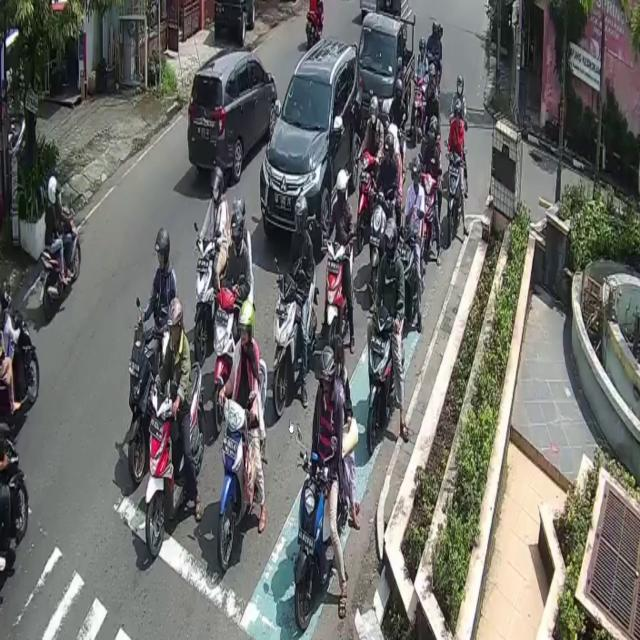bus: (147, 360, 203, 562), (220, 356, 268, 562), (272, 264, 316, 432), (293, 450, 331, 631), (128, 321, 162, 487), (41, 204, 82, 323), (365, 307, 394, 459), (0, 309, 39, 417), (1, 438, 27, 561), (194, 226, 216, 357), (327, 240, 352, 349), (446, 150, 466, 241)
motorcycle: (261, 38, 363, 250), (187, 48, 277, 182), (356, 11, 414, 138)
